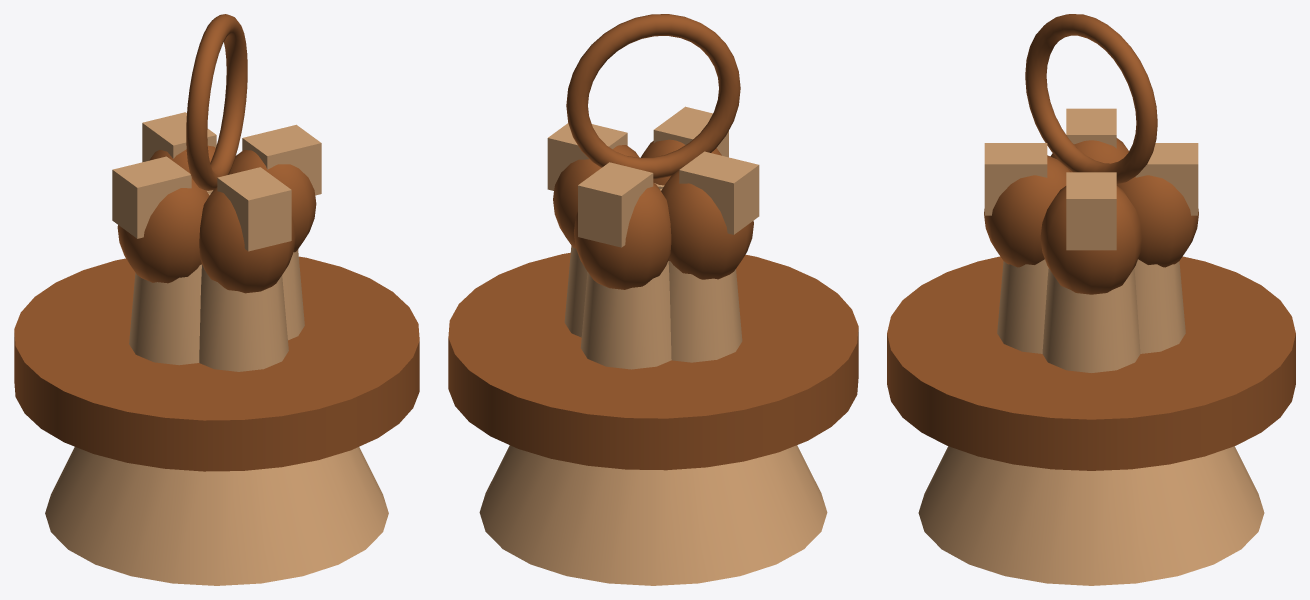
The model's file is ashoka_capital.glb.
The picture shows the model from 3 angles, left to right: view 1: azimuth 30°, elevation 25°; view 2: azimuth 150°, elevation 25°; view 3: azimuth 270°, elevation 25°; orthographic projection.
Visible parts, largest first — view 1: AshokaPillarCapital; view 2: AshokaPillarCapital; view 3: AshokaPillarCapital.
Boxes of the visible parts, <box> form: AshokaPillarCapital: <box>14,14,419,585</box>; AshokaPillarCapital: <box>448,14,858,585</box>; AshokaPillarCapital: <box>887,14,1295,585</box>.
Size of the model in its own units: 1.3 by 1.73 by 1.3.
